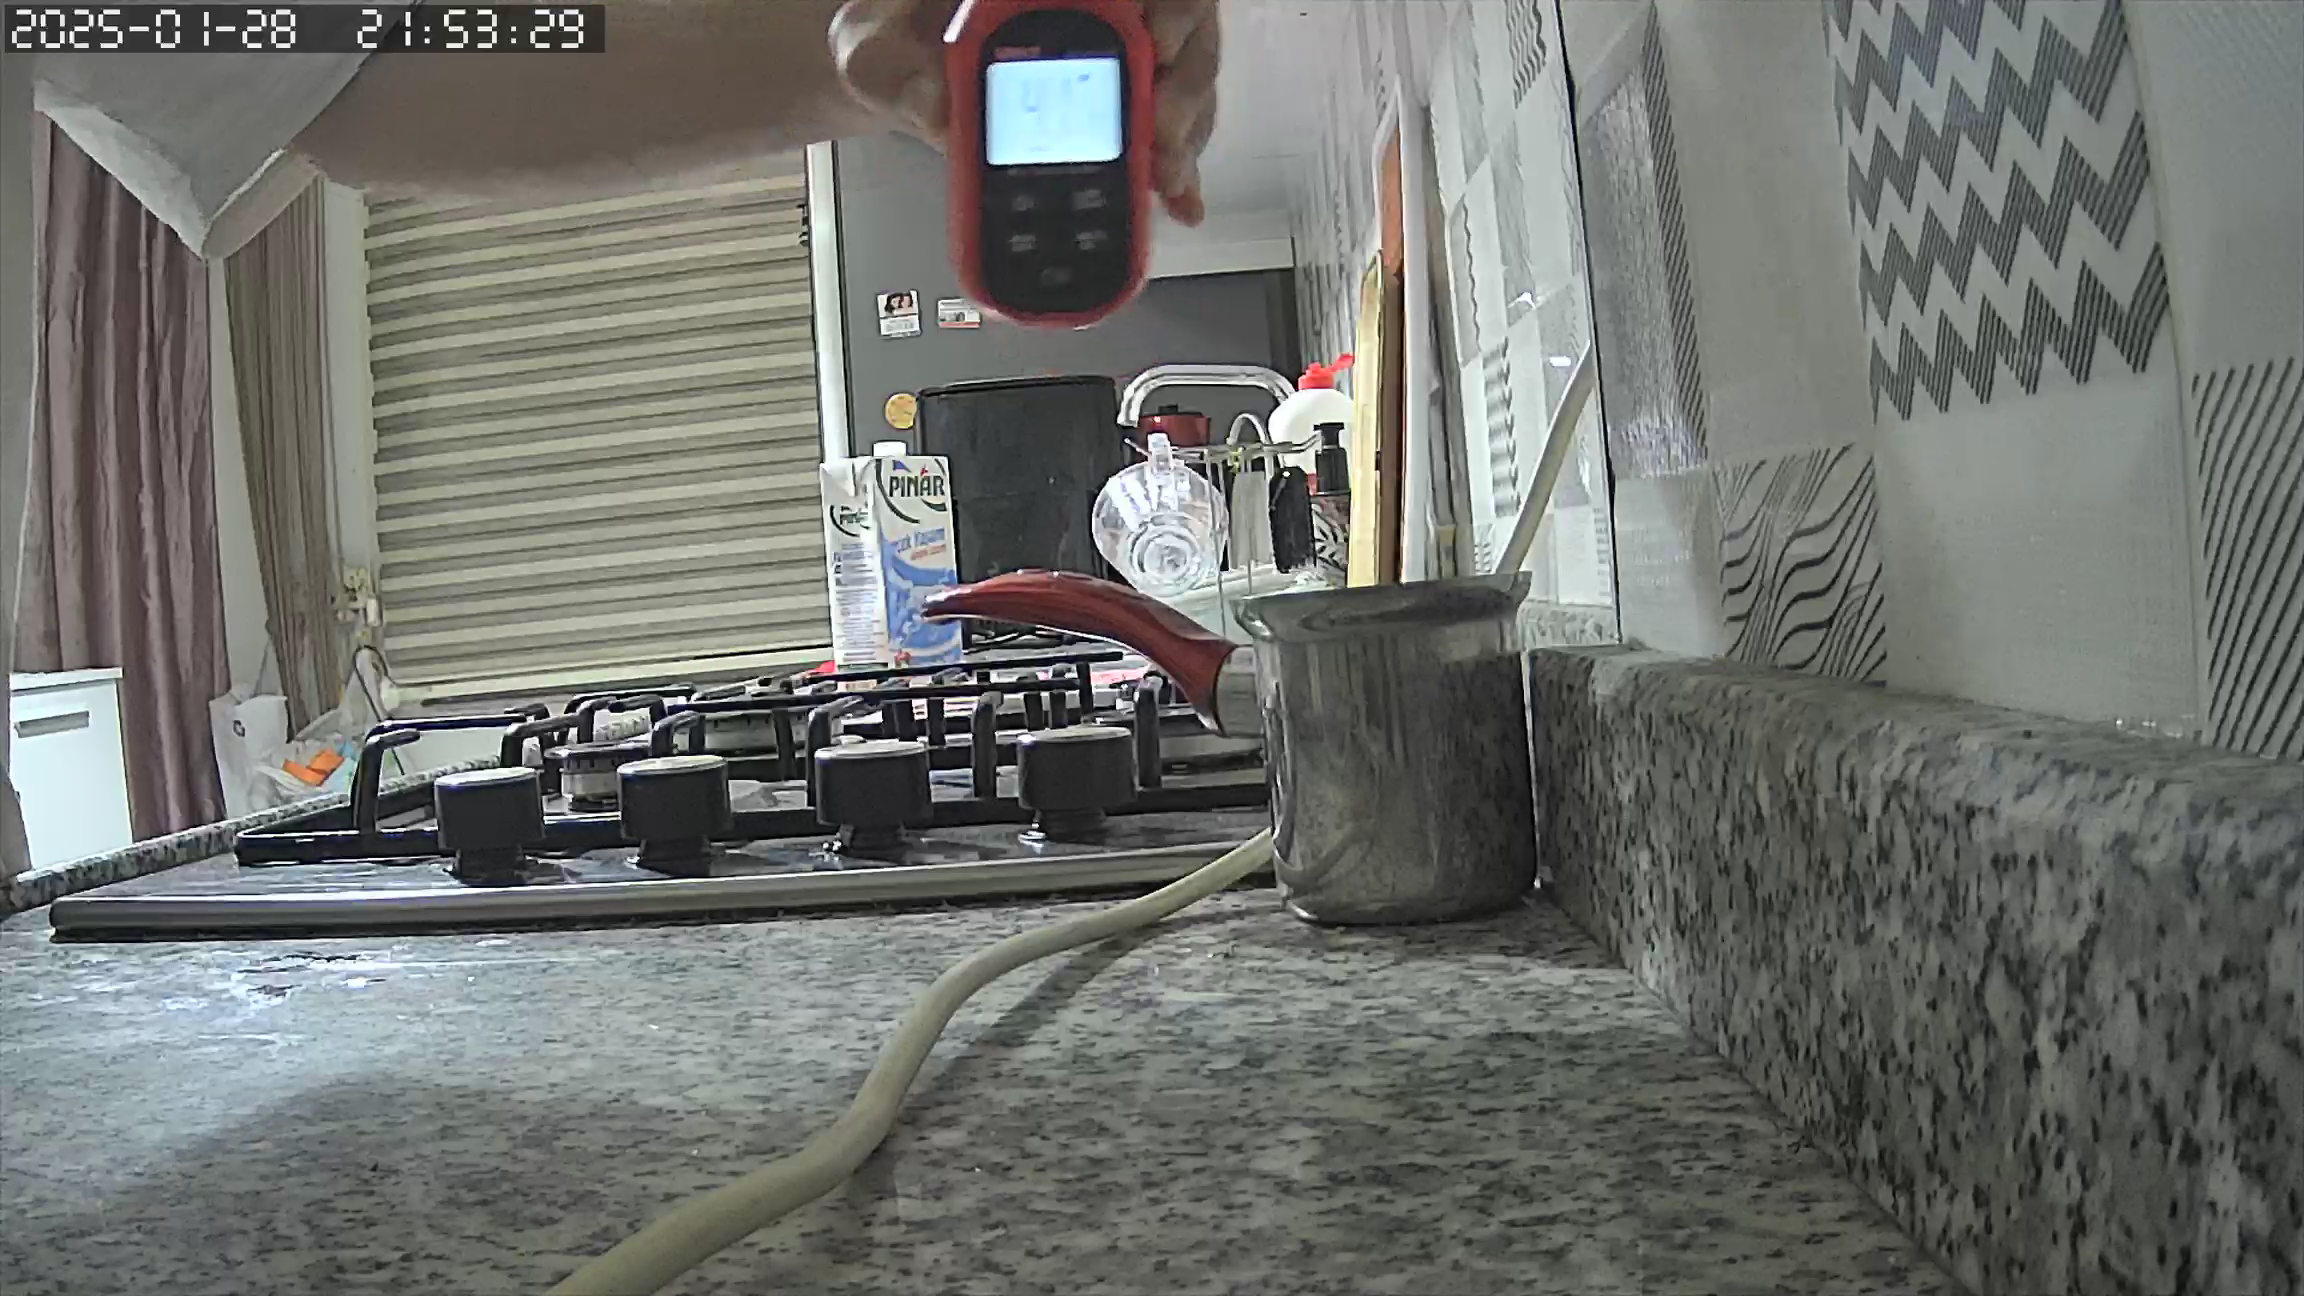screen: (984, 59, 1124, 165)
